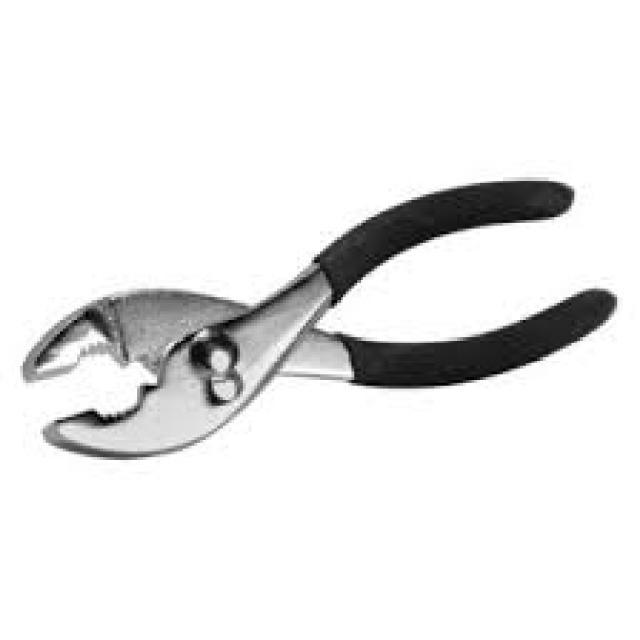pliers: (17, 169, 620, 464)
